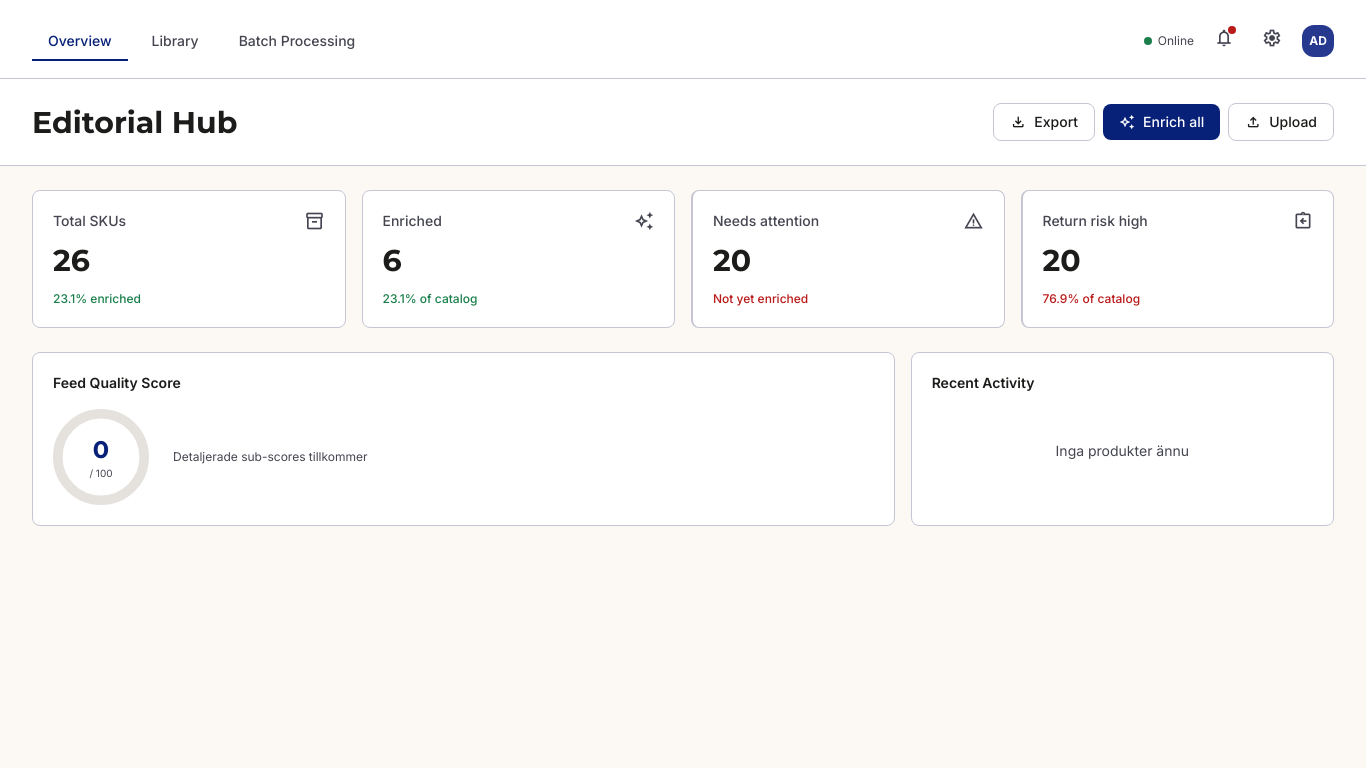
Test: DashboardPage — Preflight flow › PreflightModal visas med product_count, tokens och kostnad
What coordinates should you click on to do the following:
click the button "Enrich all"
I would click on:
 (1162, 122)
Its box is x1=1103 y1=104 x2=1220 y2=140.
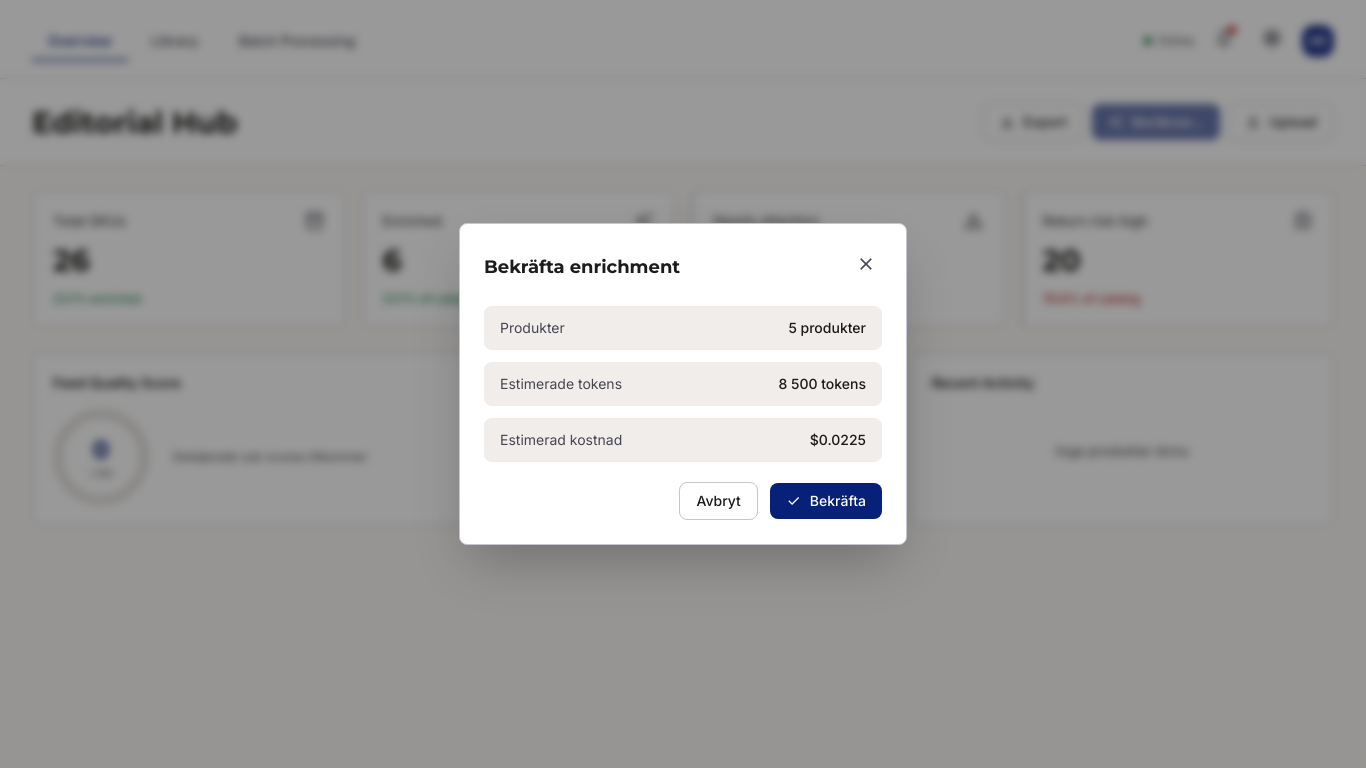
Now the button "Bekräfta" is shown, box x1=770 y1=483 x2=882 y2=519
Now the text "5 produkter" is shown, box x1=788 y1=318 x2=866 y2=338
Now the text "8 500 tokens" is shown, box x1=778 y1=374 x2=866 y2=394
